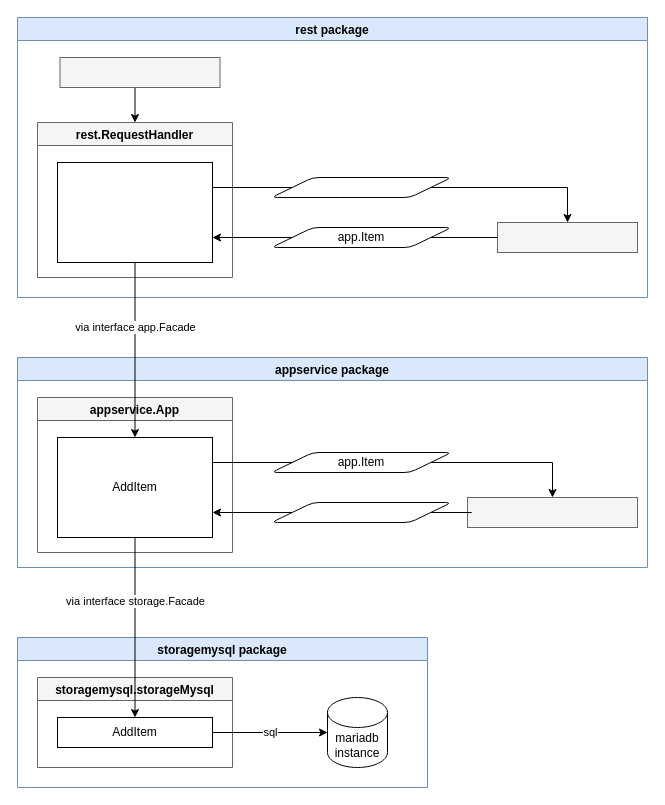
This 665x805 diagram has some shape labels left out. The shapes that lost their labels are listed below. From the top down, each one's centre as x and y in pixels, then its label:
the point at 139,72: gin-gonic/gin gin.Engine
the point at 361,187: rest.AddItemRequest
the point at 134,212: HandleAddItemRequest
the point at 567,237: rest.ItemTransformer
the point at 361,512: storage.Item
the point at 552,512: appservice.ItemTransformer
